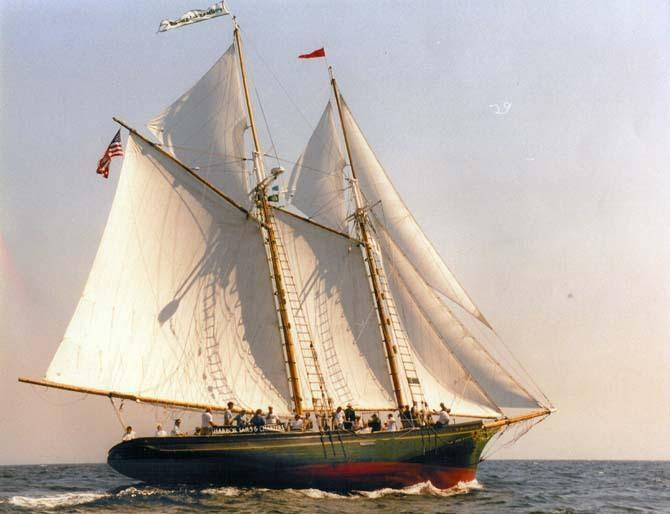Ship: (21, 2, 553, 490)
